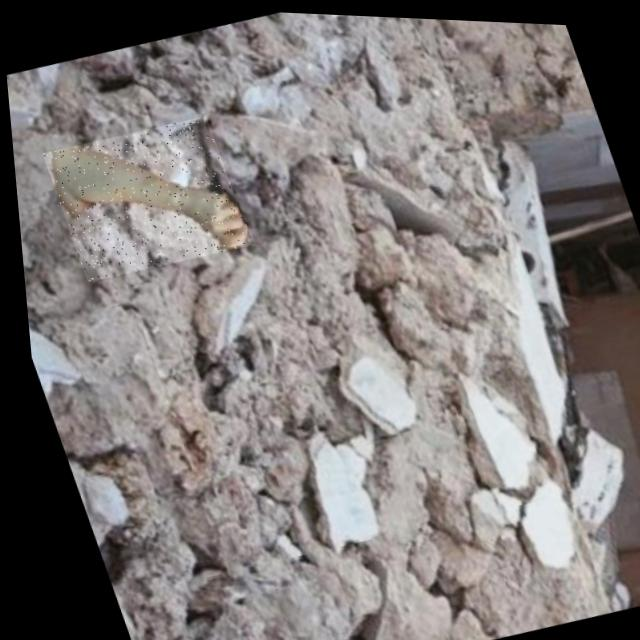Person in Rubble: (35, 107, 249, 288)
